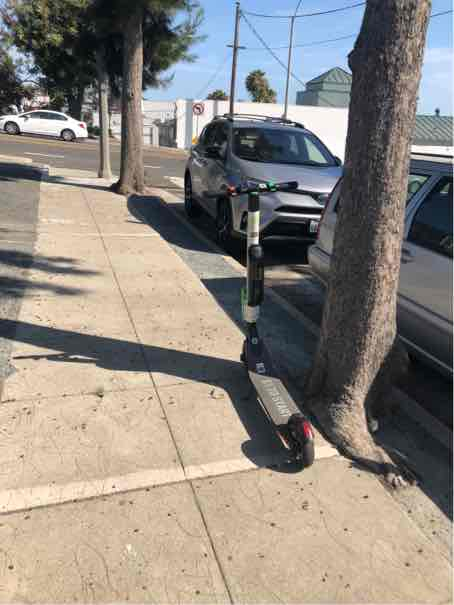scooter: (185, 161, 318, 490)
